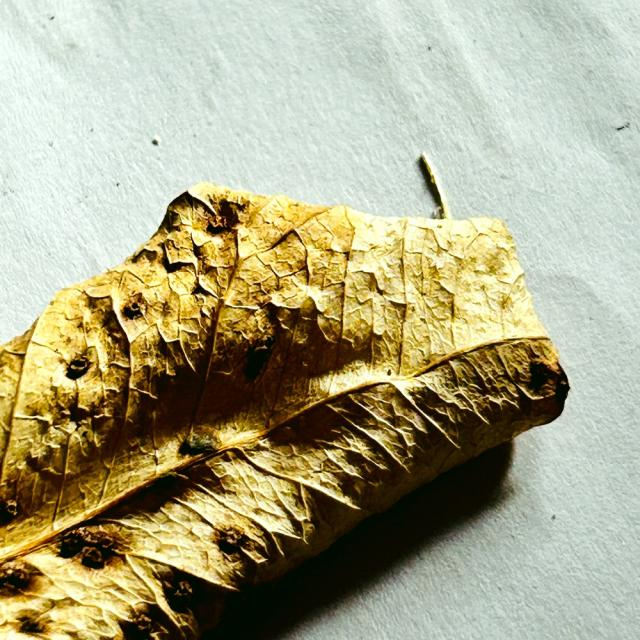DryLeaf_Lemon: (0, 183, 569, 639)
